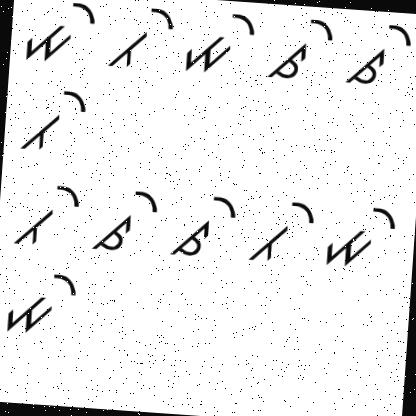bay: (240, 194, 320, 273), (17, 82, 92, 157), (10, 175, 82, 253), (104, 2, 176, 78)
cay: (87, 178, 161, 262), (344, 16, 415, 90), (266, 11, 336, 85), (170, 186, 238, 262)
may: (322, 199, 399, 276), (180, 8, 258, 80), (2, 266, 79, 338), (20, 0, 98, 66)
